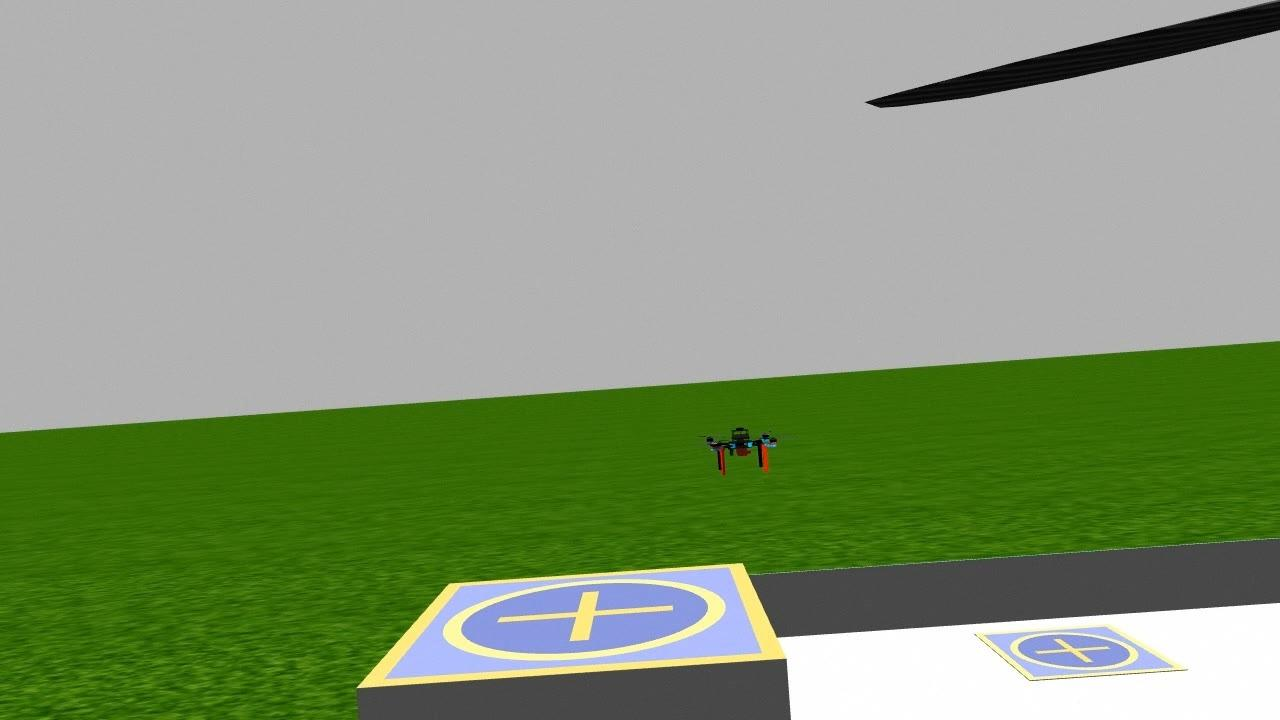UAV: (697, 408, 792, 489)
